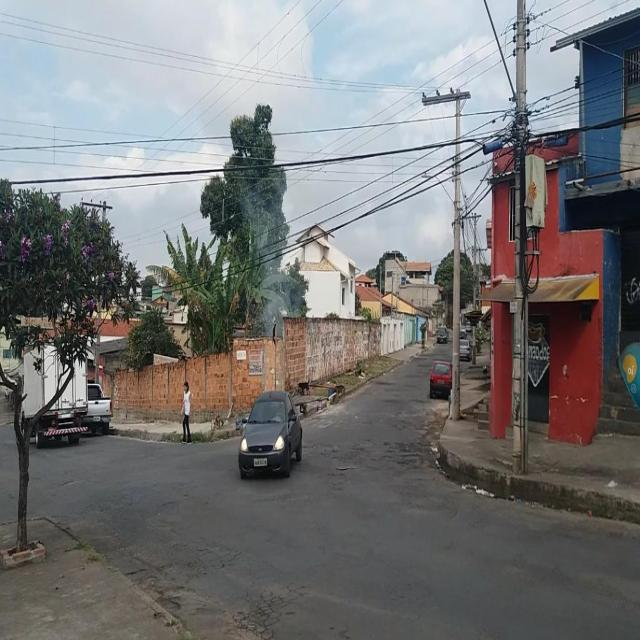Smoke: (250, 174, 291, 348)
